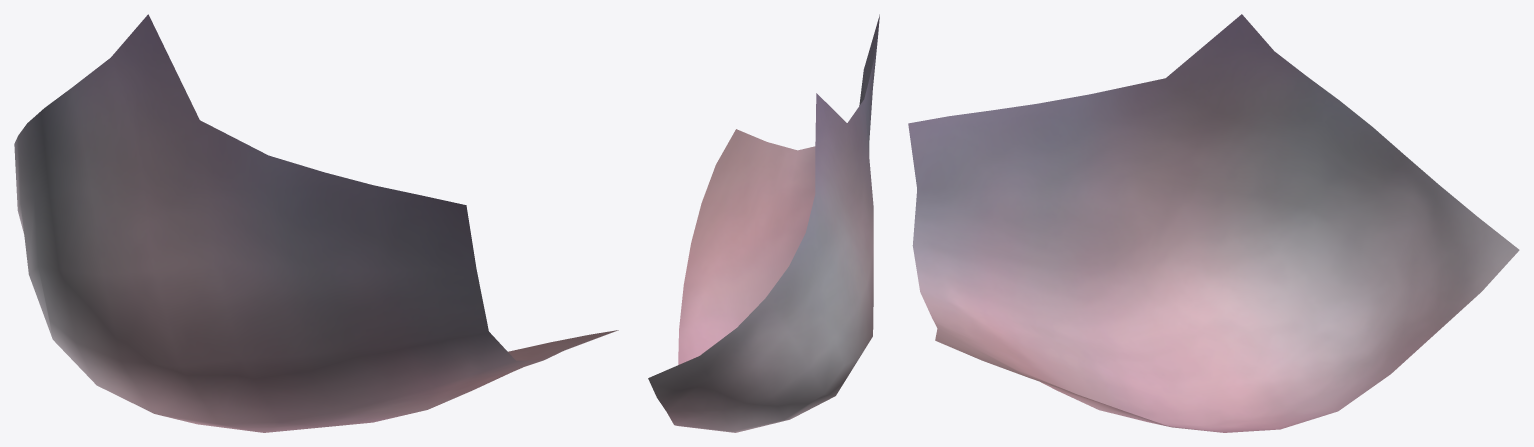
Rendered from gpint.obj.
3 renders of one model, left to right at view 1: azimuth 30°, elevation 25°; view 2: azimuth 150°, elevation 25°; view 3: azimuth 270°, elevation 25°, orthographic. The views are drawn at different scales.
Visible parts, largest first — view 1: GP:INT; view 2: GP:INT; view 3: GP:INT.
Boxes of the visible parts, x1,y1,x2,y2 form: GP:INT: [14, 14, 618, 432]; GP:INT: [648, 14, 879, 432]; GP:INT: [908, 14, 1519, 432].
Size of the model in its own units: 152 by 178 by 272.
1 material, 1 textured.
